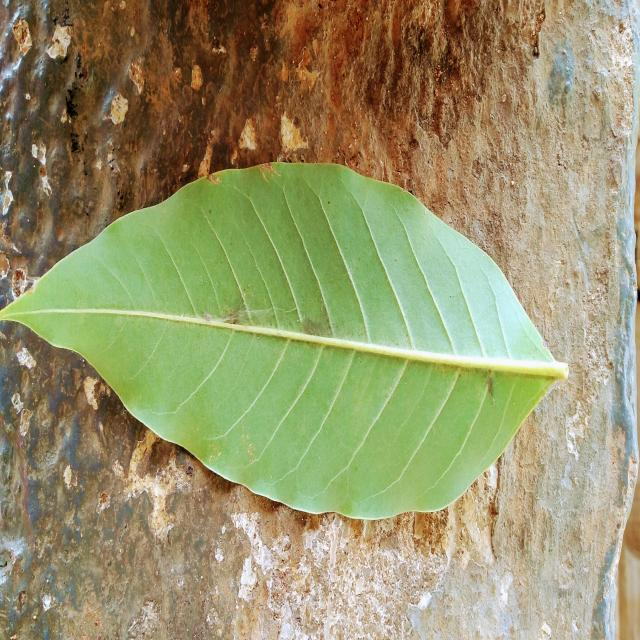sampige: (0, 162, 568, 520)
